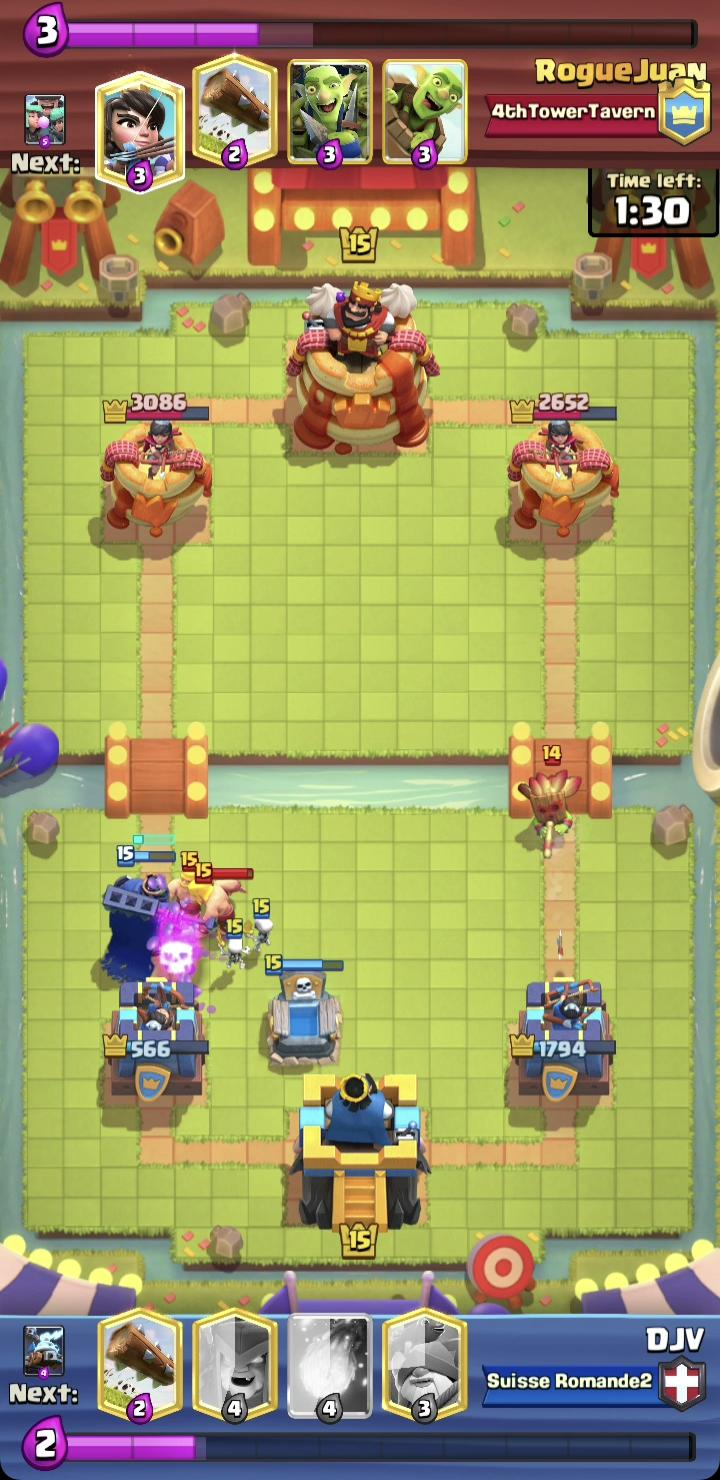ally_skeleton: (241, 897, 279, 949), (211, 921, 249, 973)
ally_skeletonking: (74, 833, 199, 984)
ally_tombstone: (263, 953, 347, 1069)
enemy_barbarian: (188, 863, 254, 953), (157, 850, 205, 925)
enemy_dart_goblin: (514, 743, 581, 859)
